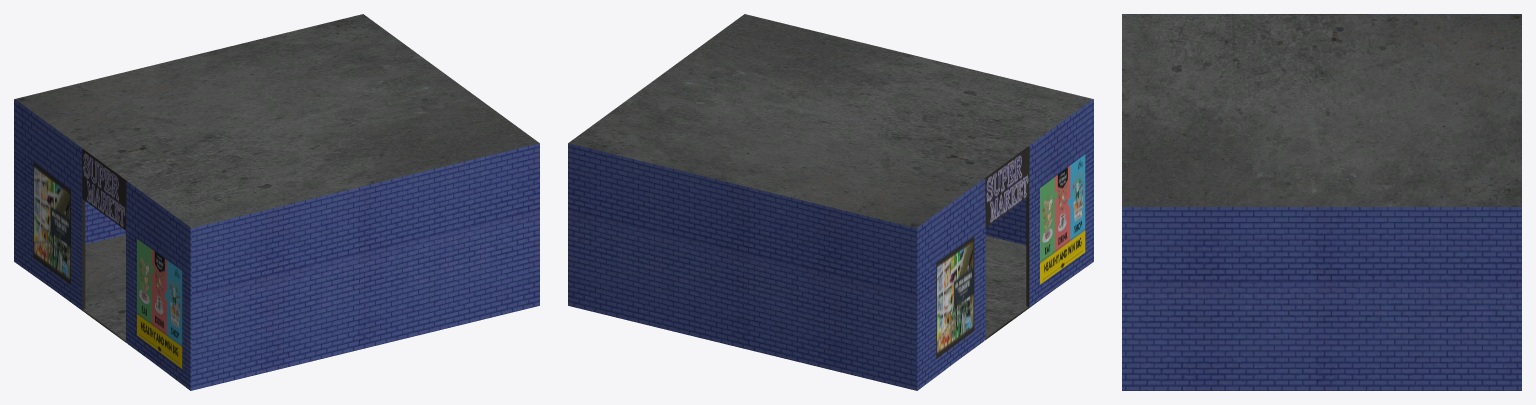
The model's file is Super_market_1.fbx.
3 views of the same model, side by side, from view 1: azimuth 30°, elevation 25°; view 2: azimuth 150°, elevation 25°; view 3: azimuth 270°, elevation 25° (orthographic). The views are drawn at different scales.
Parts seen in each view (by area): view 1: Super_market_1; view 2: Super_market_1; view 3: Super_market_1.
Boxes of the visible parts, x1,y1,x2,y2 form: Super_market_1: (14,14,539,390); Super_market_1: (568,14,1093,390); Super_market_1: (1122,14,1521,390).
Size of the model in its own units: 17.38 by 7.73 by 15.23.
